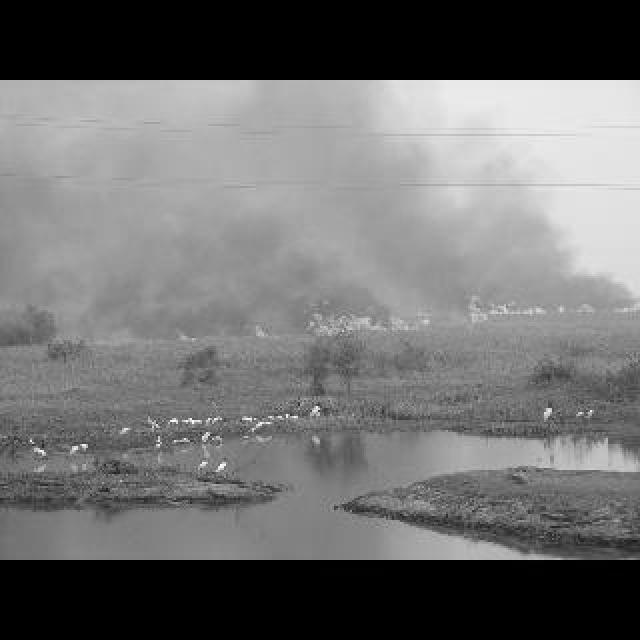Fire: (298, 306, 428, 332), (460, 292, 544, 326), (170, 326, 200, 342), (606, 298, 638, 310), (244, 322, 268, 338), (552, 300, 566, 312), (578, 304, 594, 314)
Smoke: (0, 112, 562, 304)
